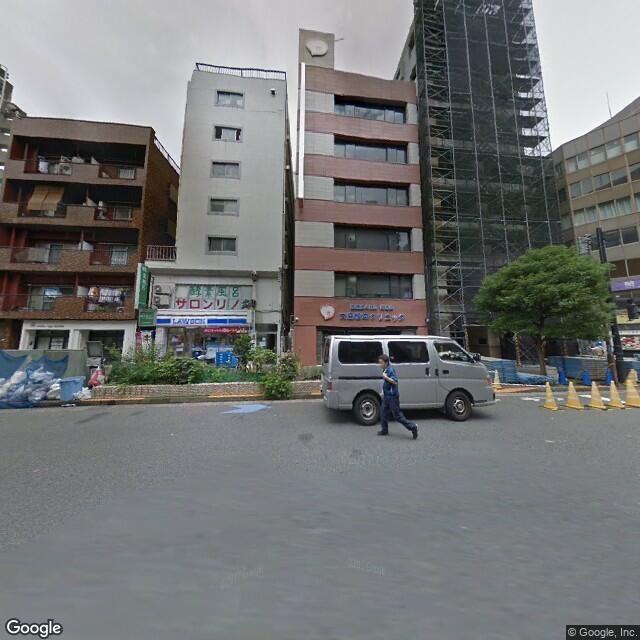lawson: (152, 310, 248, 329)
